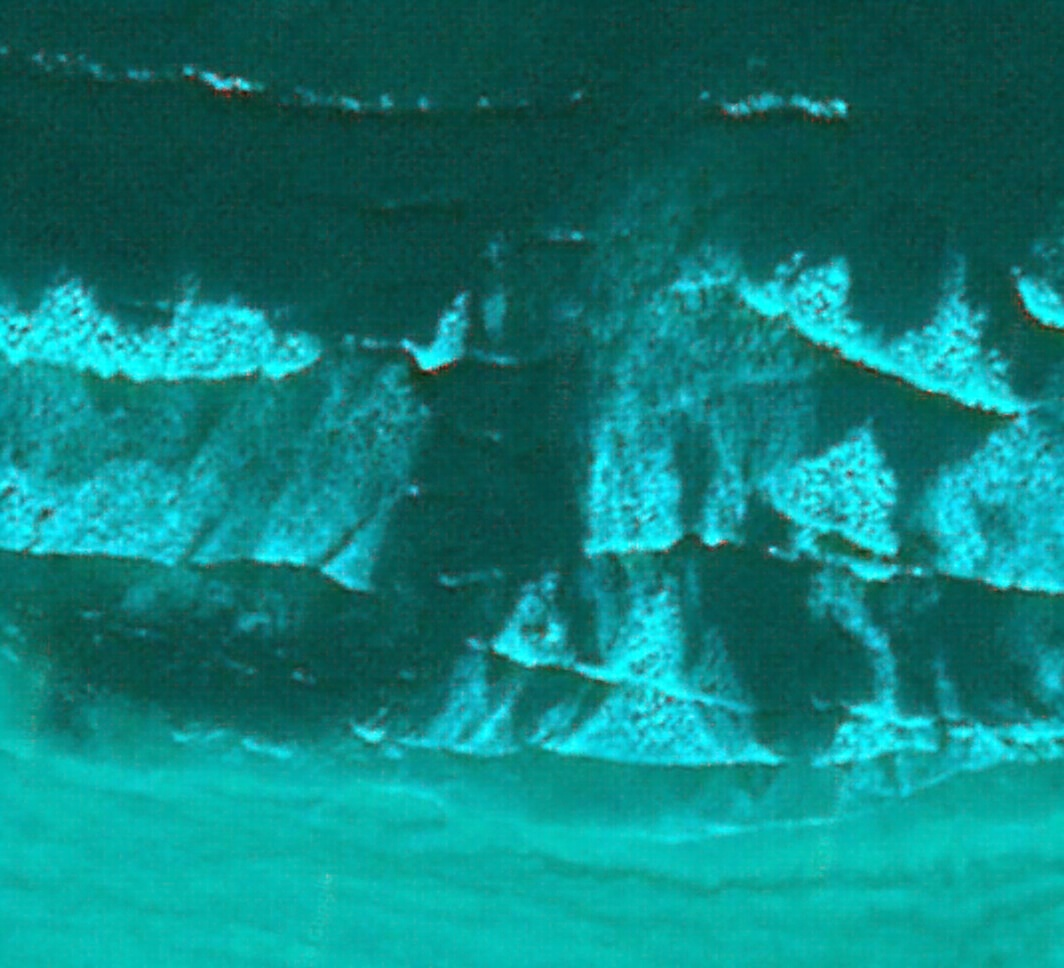rip_current: (292, 143, 705, 694)
